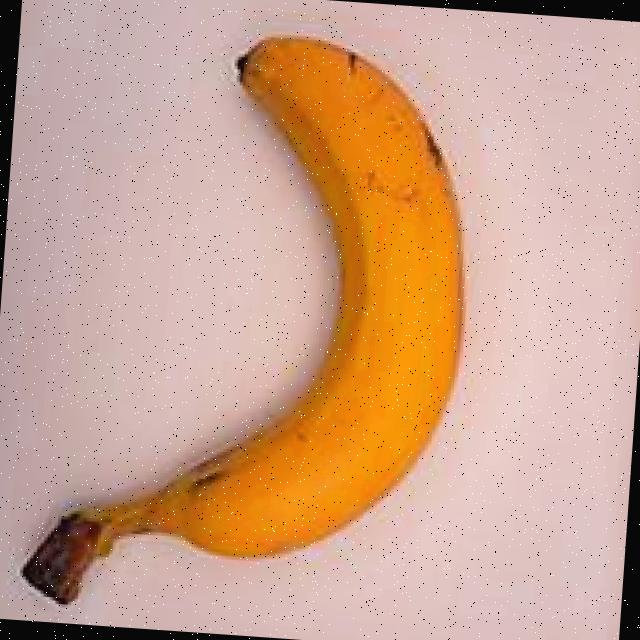Ripe: (2, 17, 519, 640)
